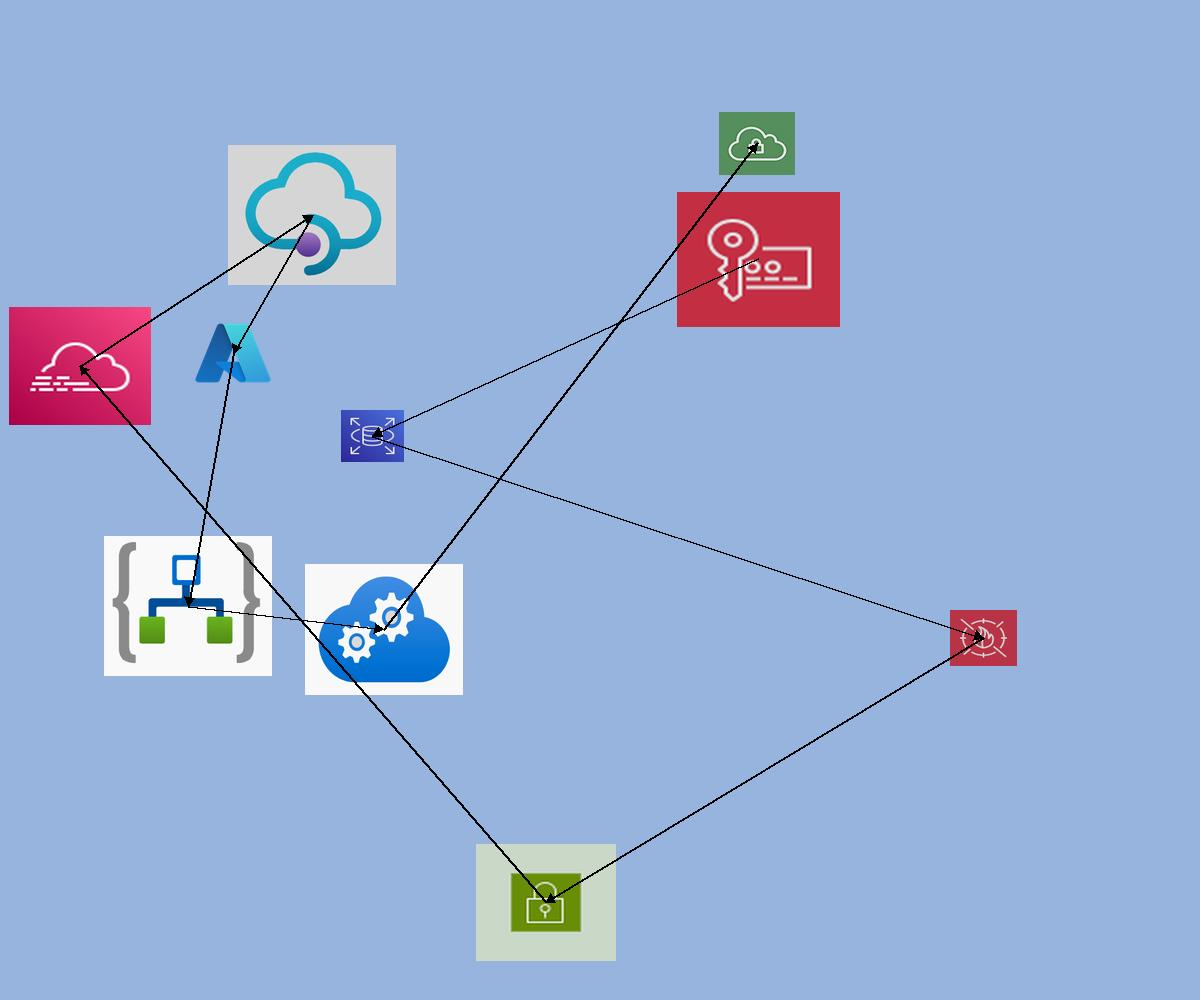AWS-CloudTrail: (9, 307, 151, 425)
AWS-Key-Management-Service: (677, 192, 840, 327)
AWS-Private_vpc: (719, 112, 795, 175)
AWS-Public-subnet: (476, 844, 616, 961)
AWS-RDS: (341, 410, 404, 462)
AWS-WAF: (950, 610, 1017, 666)
Azure_api_gateway: (228, 145, 396, 285)
Azure_cloud_services: (305, 564, 463, 695)
Azure_integration-204-Logic-Apps: (104, 536, 272, 676)
Azure_services: (192, 319, 274, 387)
